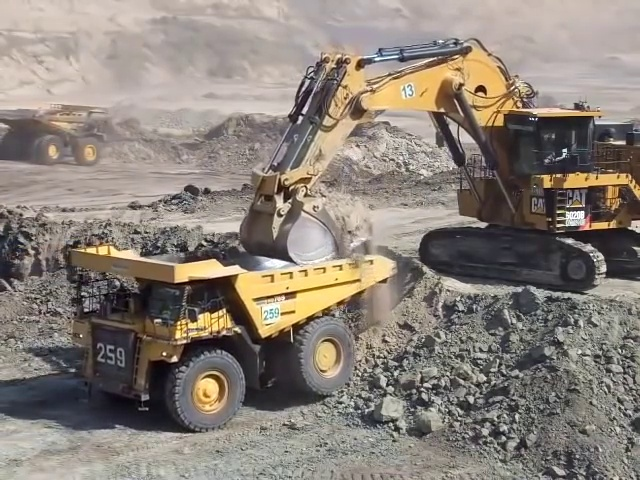dumper: (66, 242, 397, 431), (4, 101, 100, 165)
excavator: (238, 36, 640, 291)
